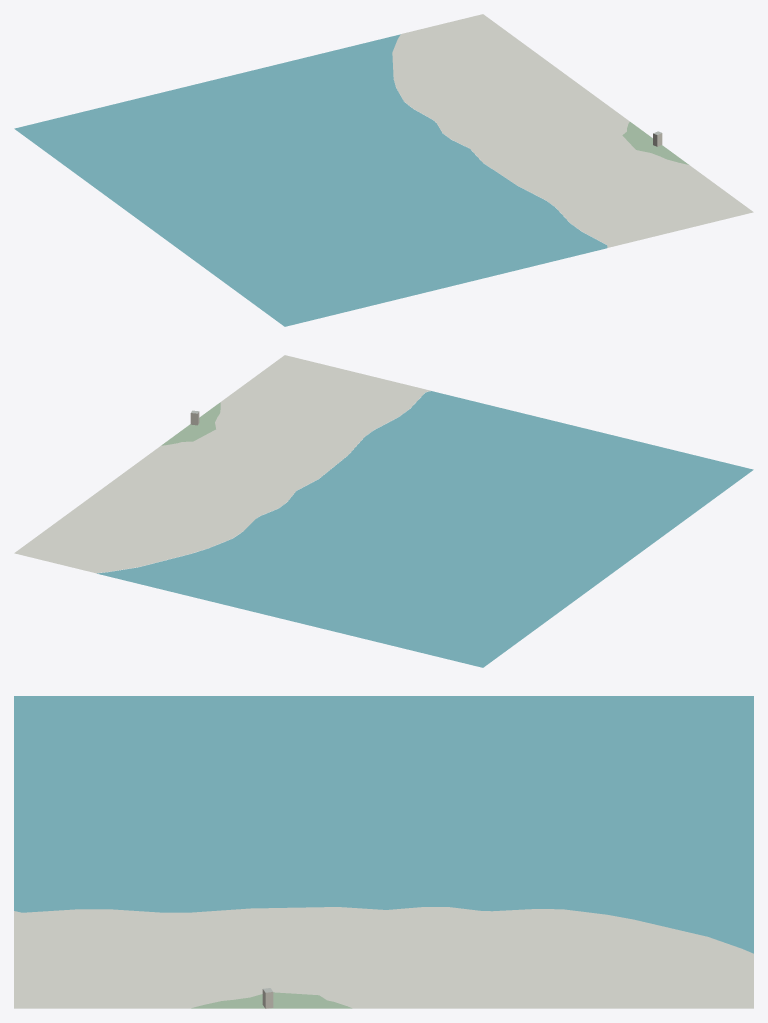
The picture shows the model from 3 angles, top to bottom: view 1: azimuth 30°, elevation 25°; view 2: azimuth 150°, elevation 25°; view 3: azimuth 270°, elevation 25°; orthographic projection. The views are drawn at different scales.
Parts seen in each view (by area): view 1: city; view 2: city; view 3: city.
Part boxes in pixels (<box>): city: <box>14,14,753,326</box>; city: <box>14,355,753,667</box>; city: <box>14,696,753,1008</box>.
Bounding box in the file's own units: 501 × 12.18 × 500.
